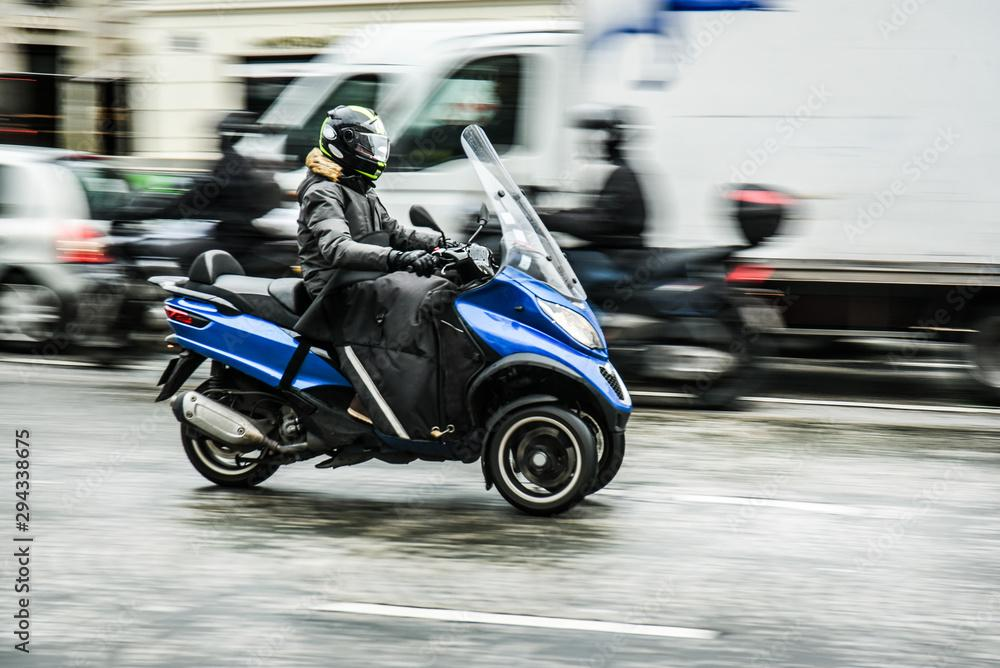helmet: (319, 104, 391, 182)
